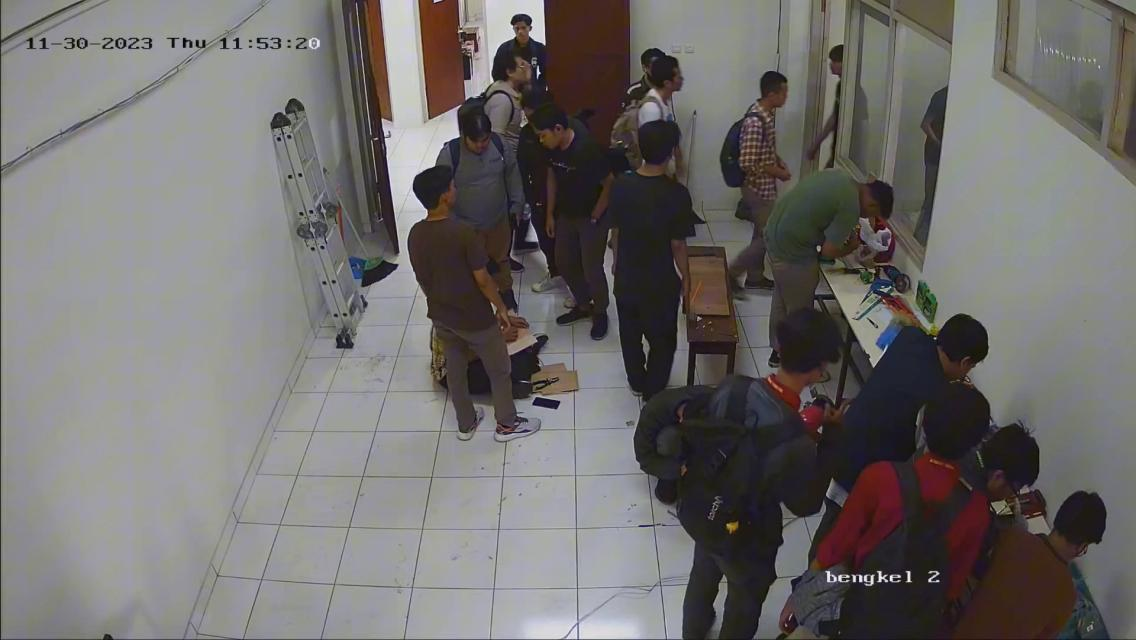Crowd: (388, 24, 714, 433)
